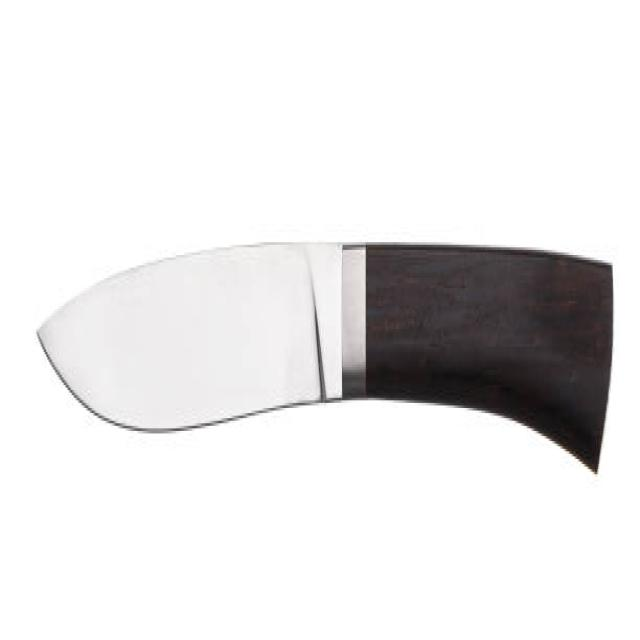knife: (33, 231, 620, 490)
